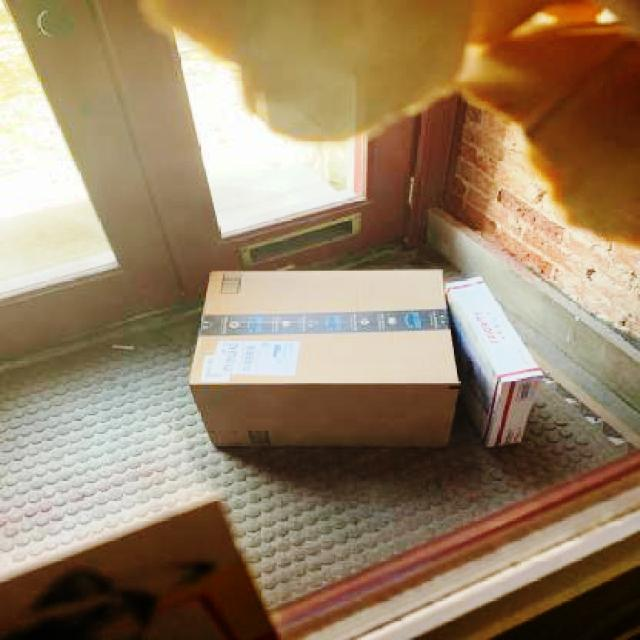Box: (186, 270, 460, 448), (448, 275, 543, 448)
